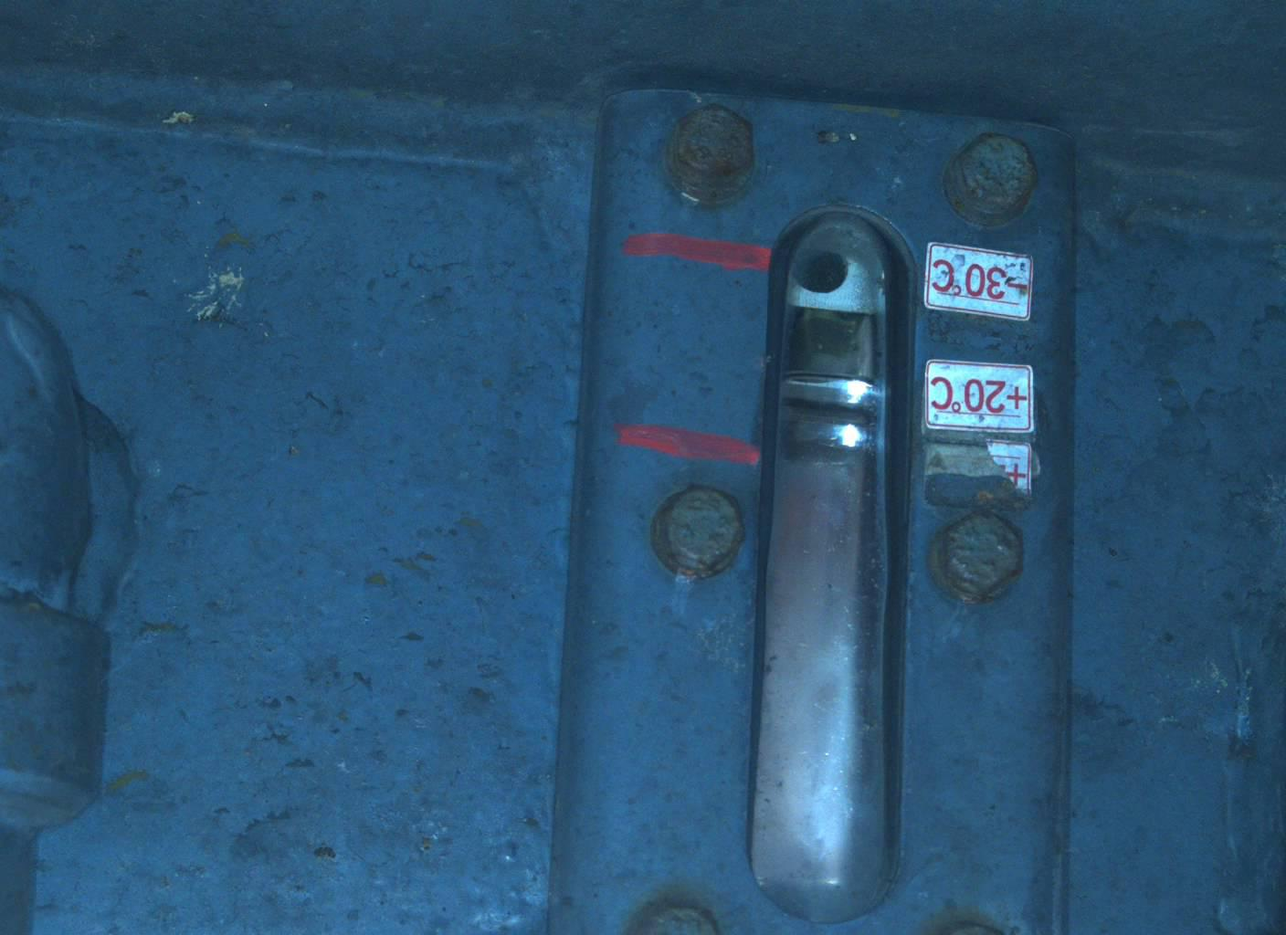oil_level_gauge: (604, 99, 1043, 930)
